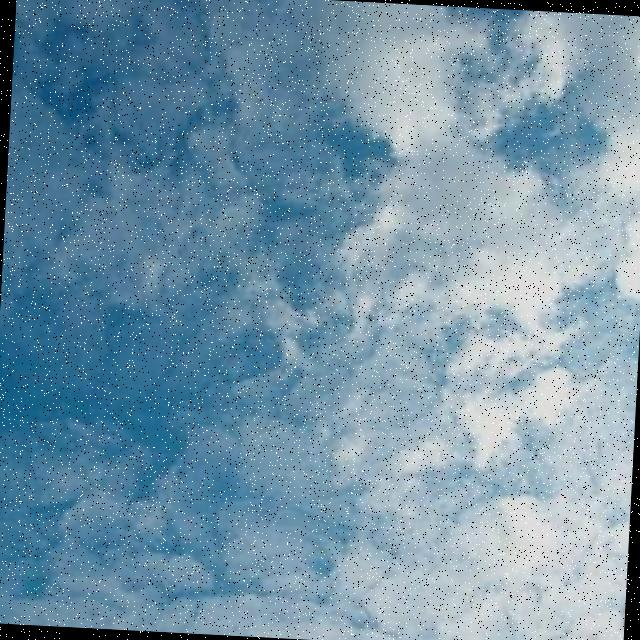As: (1, 1, 640, 581)
